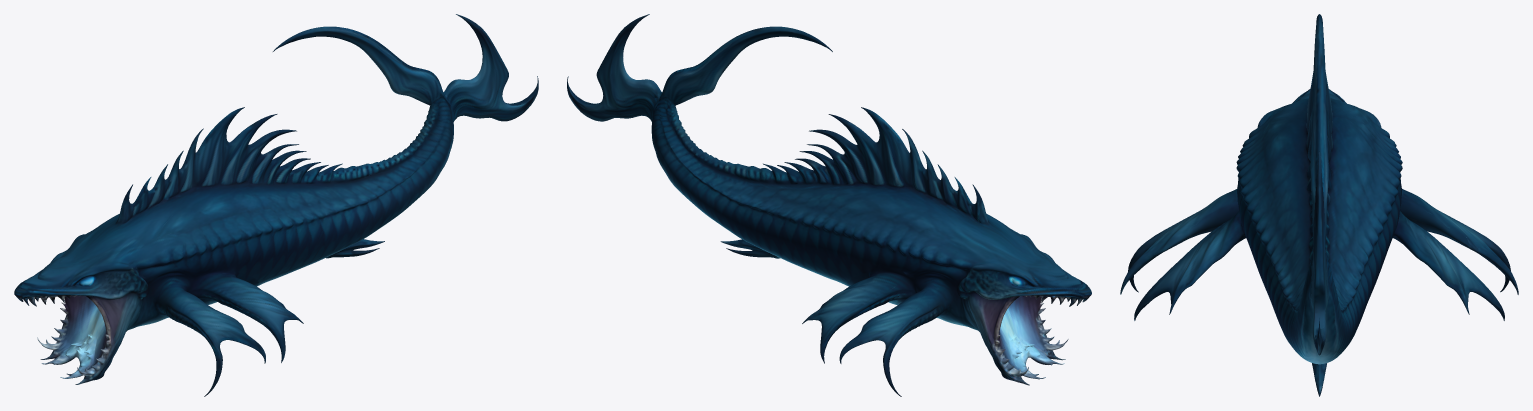
File: Abyss Leviathan.glb
The picture shows the model from 3 angles, left to right: view 1: azimuth 30°, elevation 25°; view 2: azimuth 150°, elevation 25°; view 3: azimuth 270°, elevation 25°; orthographic projection. The views are drawn at different scales.
Parts seen in each view (by area): view 1: material; view 2: material; view 3: material.
Part boxes in pixels (<box>): material: <box>14,14,538,396</box>; material: <box>567,14,1091,396</box>; material: <box>1120,14,1518,396</box>.
Size of the model in its own units: 1.18 by 0.6083 by 0.5613.
Materials: 1 (1 with a texture image).
